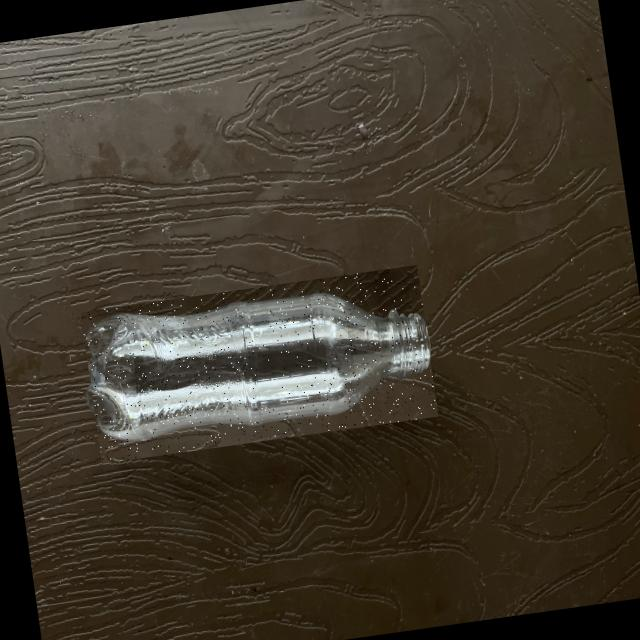PET_ClearBottle: (80, 264, 438, 463)
